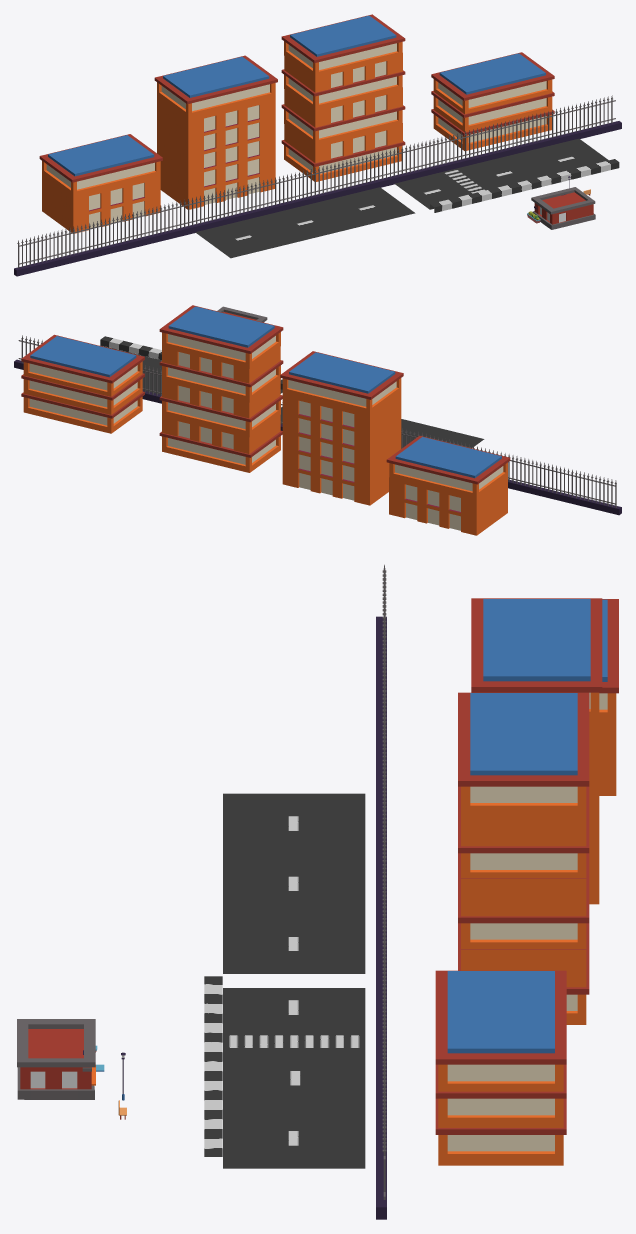
The model's file is Week 10 Practice.fbx.
The picture shows the model from 3 angles, top to bottom: view 1: azimuth 30°, elevation 25°; view 2: azimuth 150°, elevation 25°; view 3: azimuth 270°, elevation 25°; orthographic projection. The views are drawn at different scales.
Parts seen in each view (by area): view 1: Building.003, Building, Fence.003, Building.001, Building.002, Road with cross walk, Road, Cube, House; view 2: Building.003, Building, Building.001, Building.002, Fence.003, Road with cross walk, Cube, Road; view 3: Building.003, Road with cross walk, Road, Building.002, Building, House, Cube, Building.001, Fence.003.
Part boxes in pixels (x1,y1,x2,y2): Building.003: (281,14,405,181); Building: (154,55,277,209); Fence.003: (17,95,615,267); Building.001: (39,134,162,233); Building.002: (431,52,554,150); Road with cross walk: (394,138,619,212); Road: (195,187,415,258); Cube: (14,121,621,276); House: (531,187,595,229); Building.003: (159,305,283,472); Building: (280,351,403,505); Building.001: (386,435,510,535); Building.002: (21,334,144,433); Fence.003: (18,335,616,507); Road with cross walk: (100,336,282,394); Cube: (14,359,621,515); Road: (280,406,484,448); Building.003: (458,692,589,1024); Road with cross walk: (204,976,365,1168); Road: (223,793,365,973); Building.002: (435,970,566,1165); Building: (471,598,602,904); House: (17,1019,104,1099); Cube: (376,616,386,1219); Building.001: (599,599,618,795); Fence.003: (382,564,386,1199).
Size of the model in its own units: 11777 by 2340 by 5075.
